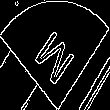M_SW: (30, 20, 80, 90)
